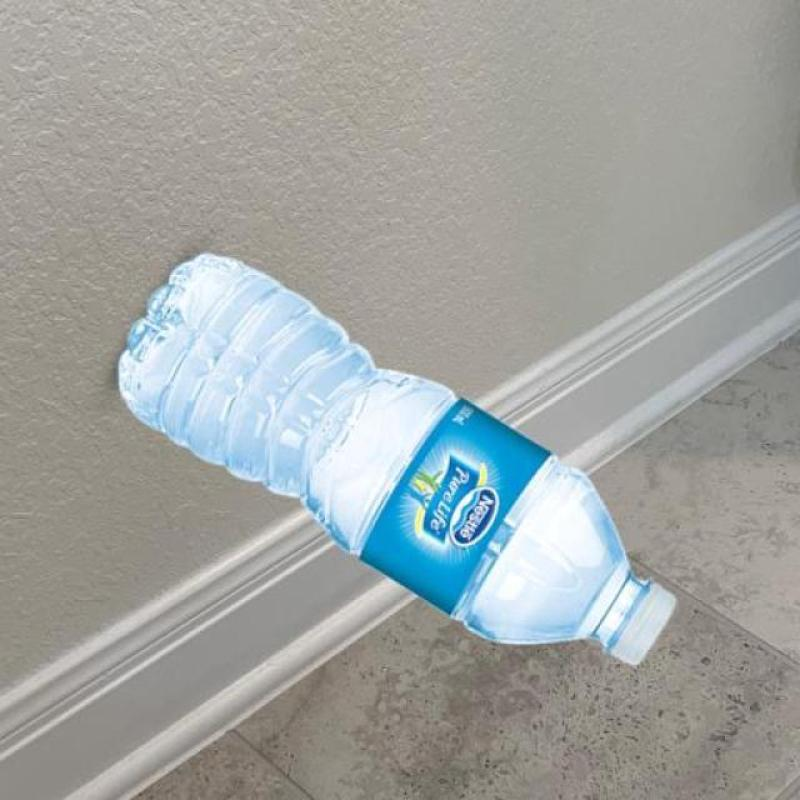botella: (116, 246, 678, 668)
